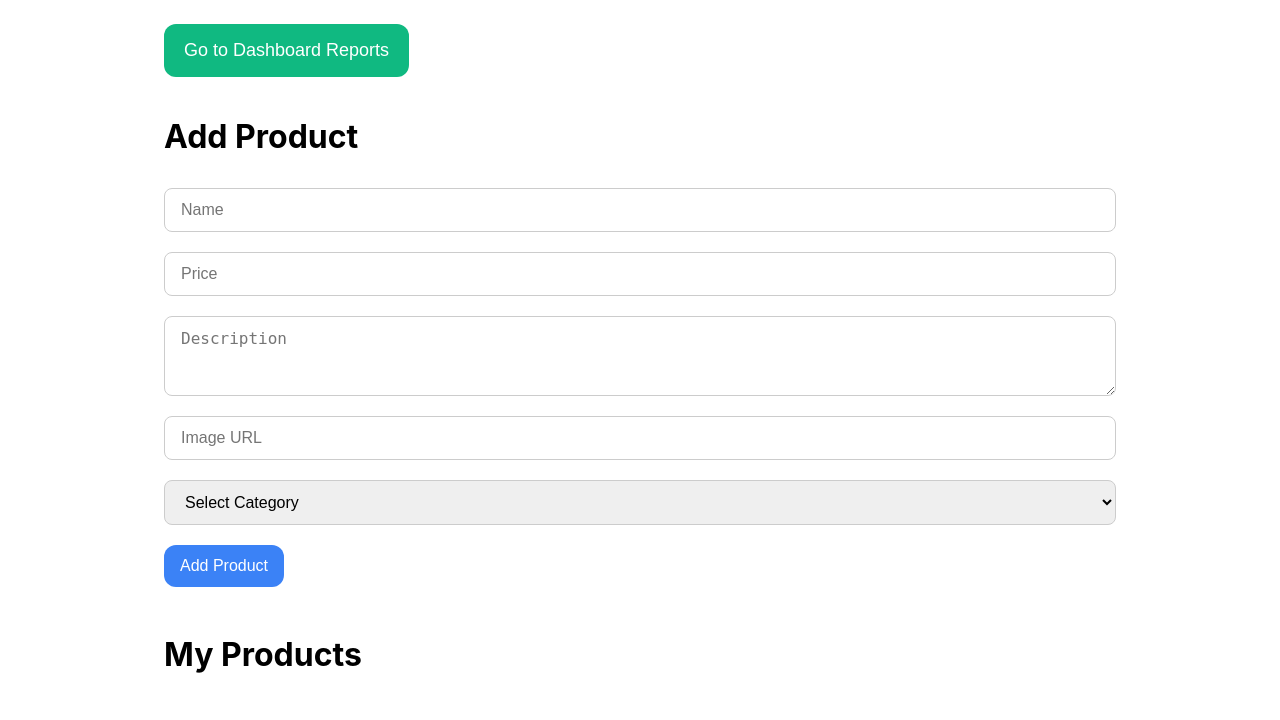
Test: Given form missing name, When submitting, Then show "All fields are required."
Type "100" into the number field with placeholder "Price" at (640, 274), box [164, 252, 1116, 296]
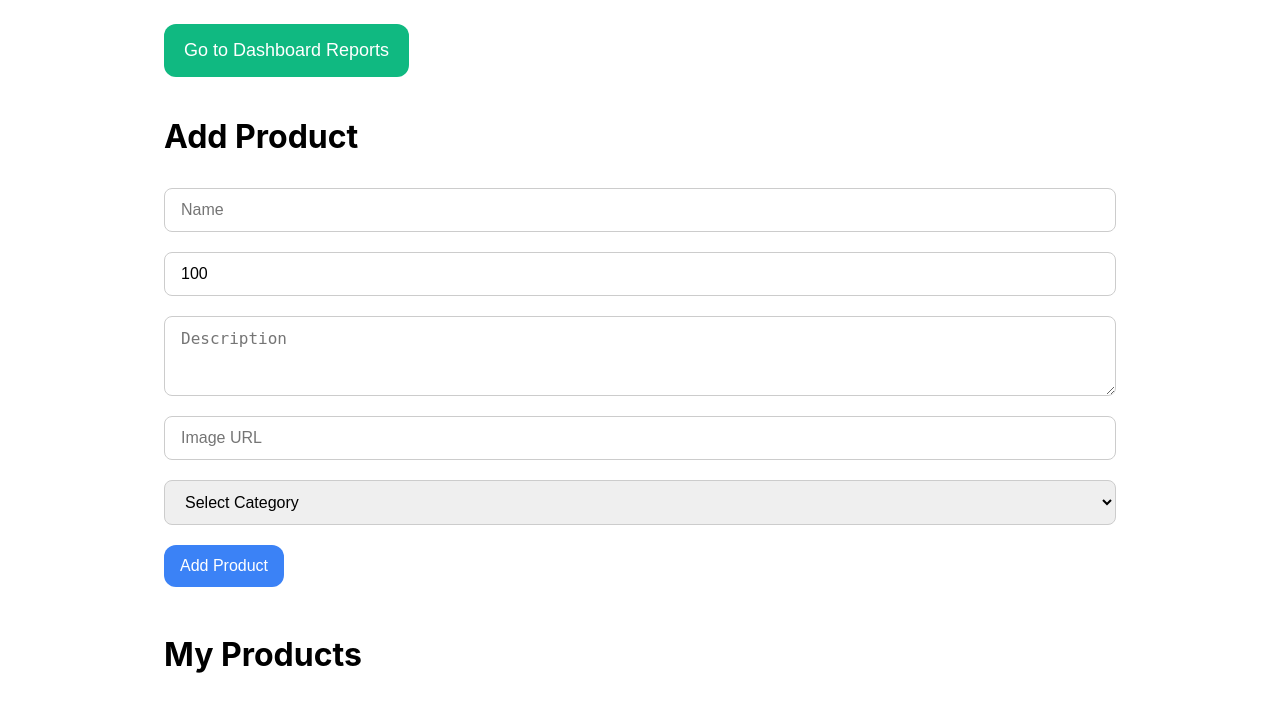
Type "desc" into the text box with placeholder "Description" at (640, 356), box [164, 316, 1116, 396]
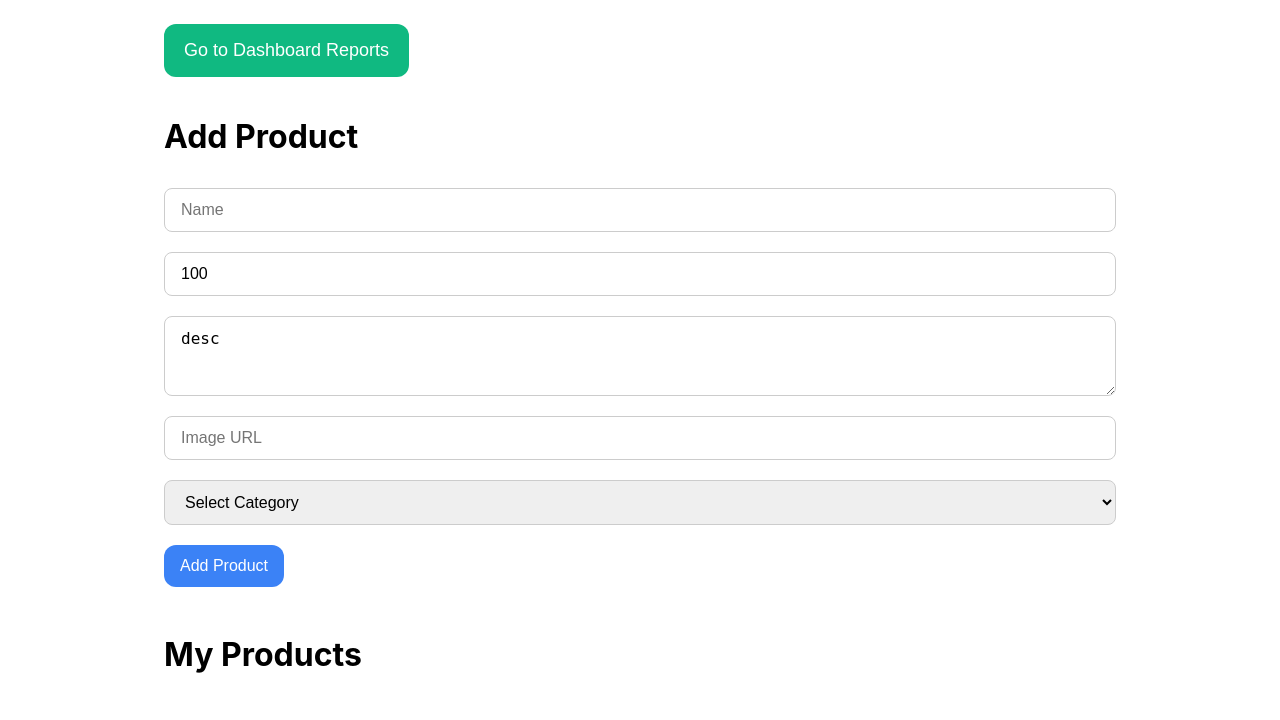
Type "url" into the field with placeholder "Image URL" at (640, 438), box [164, 416, 1116, 460]
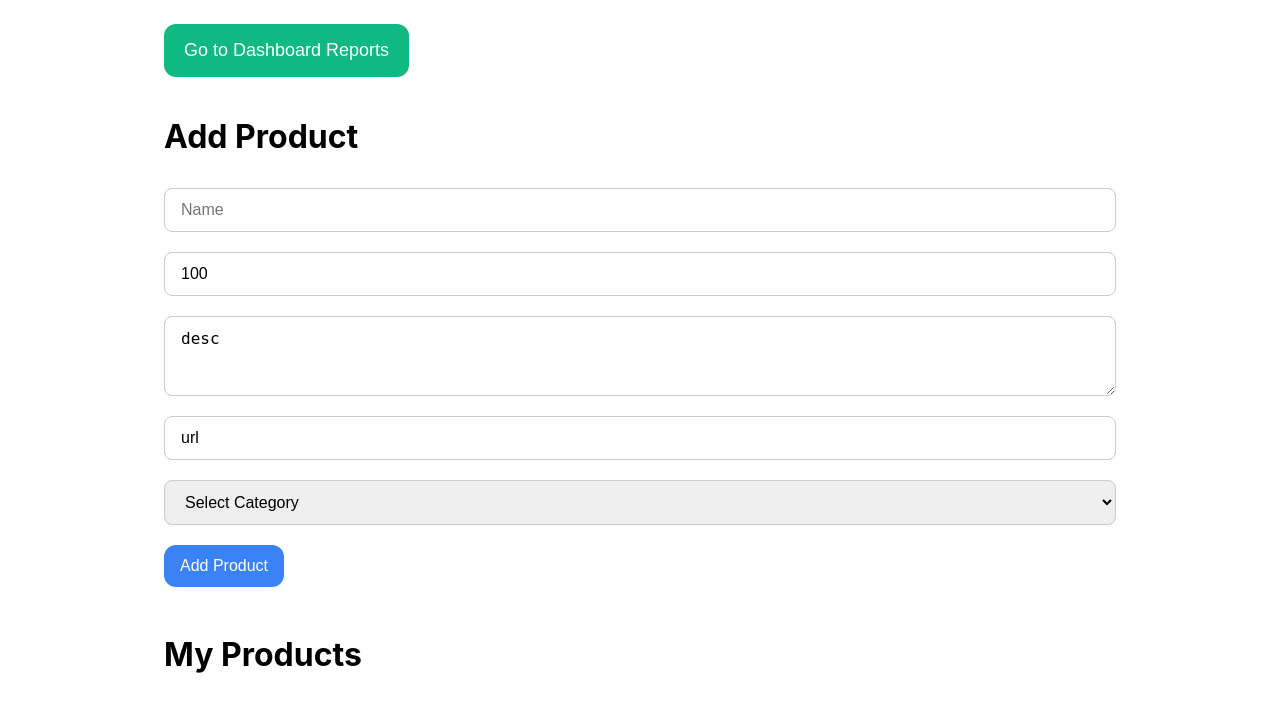
Click the button "Add Product" at (224, 566), box [164, 545, 284, 587]
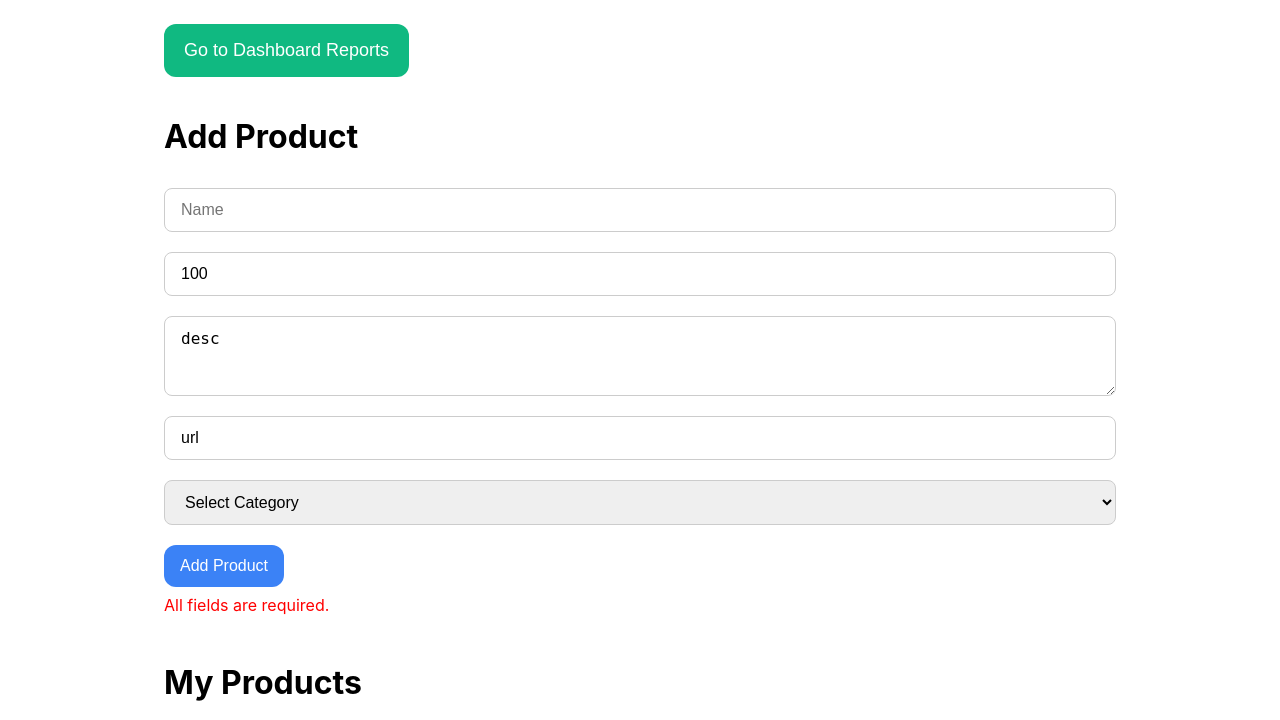
Expected: the text "All fields are required." is shown, [164, 595, 329, 615]
